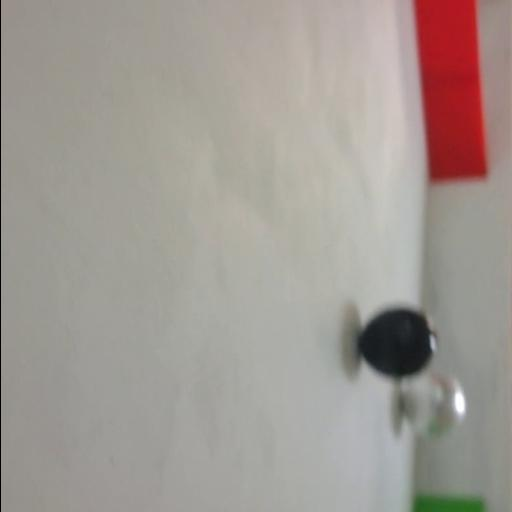alive: (396, 370, 468, 444)
dead: (358, 304, 438, 380)
